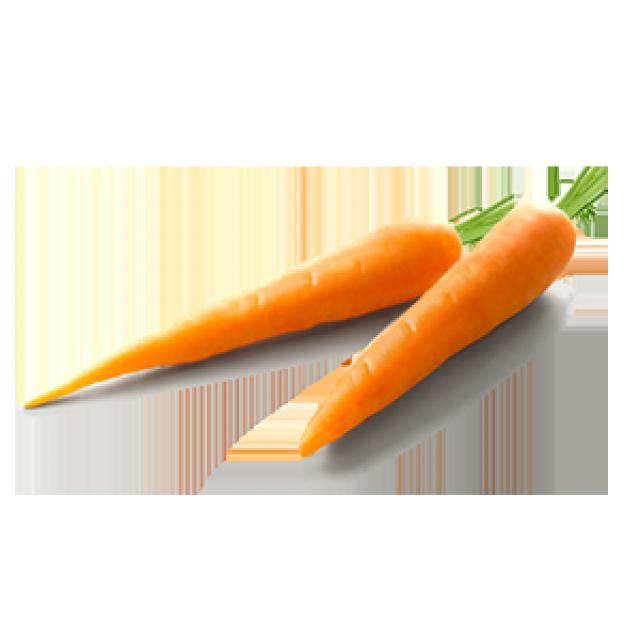Carrot: (28, 183, 519, 415), (299, 165, 626, 448)
